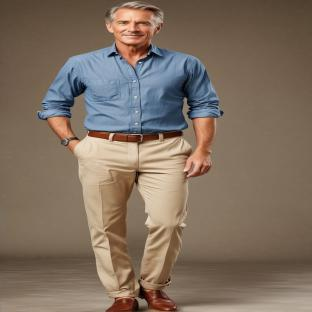Human: (38, 1, 223, 312)
